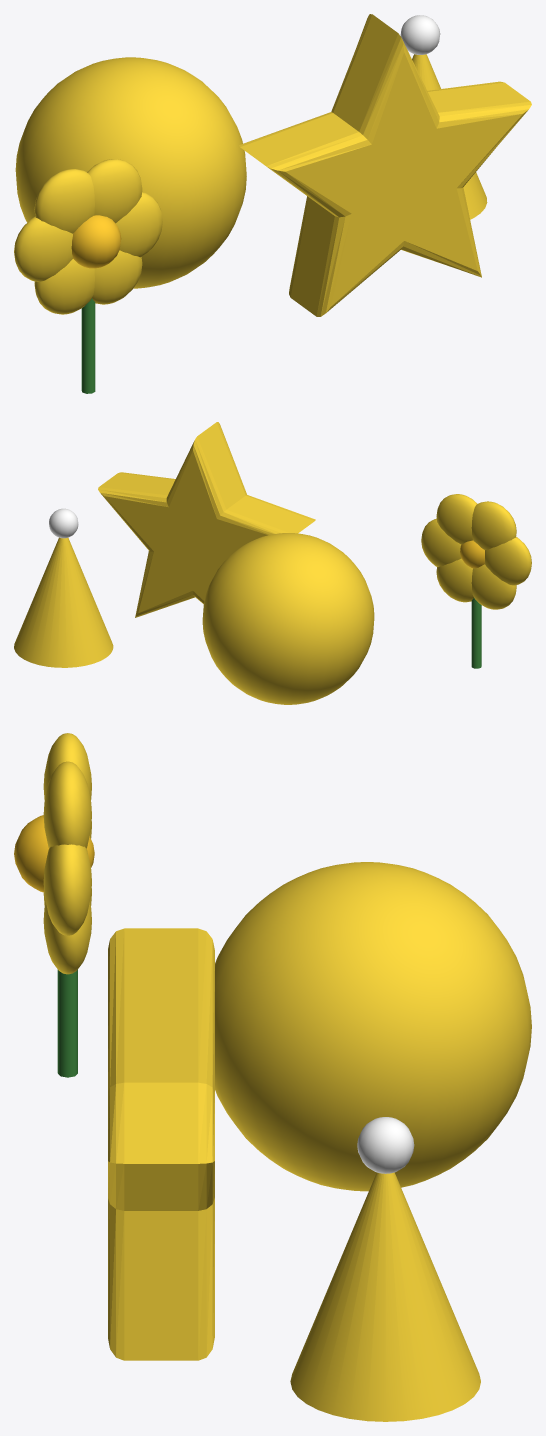
File: yellow.glb
3 views of the same model, one above another, from view 1: azimuth 30°, elevation 25°; view 2: azimuth 150°, elevation 25°; view 3: azimuth 270°, elevation 25° (orthographic). The views are drawn at different scales.
Visible parts, largest first — view 1: star, ball, flower, hat; view 2: ball, star, flower, hat; view 3: ball, star, hat, flower.
Part boxes in pixels (box(x1,y1,x2,y2)): star: box(239, 14, 531, 316); ball: box(15, 57, 246, 288); flower: box(14, 159, 162, 393); hat: box(400, 15, 487, 219); ball: box(202, 533, 374, 704); star: box(98, 422, 315, 617); flower: box(421, 494, 531, 668); hat: box(14, 508, 113, 667); ball: box(215, 862, 531, 1191); star: box(108, 928, 214, 1360); hat: box(290, 1117, 480, 1421); flower: box(14, 733, 94, 1077).
Bounding box in the file's own units: 2.53 × 1.11 × 1.38.
